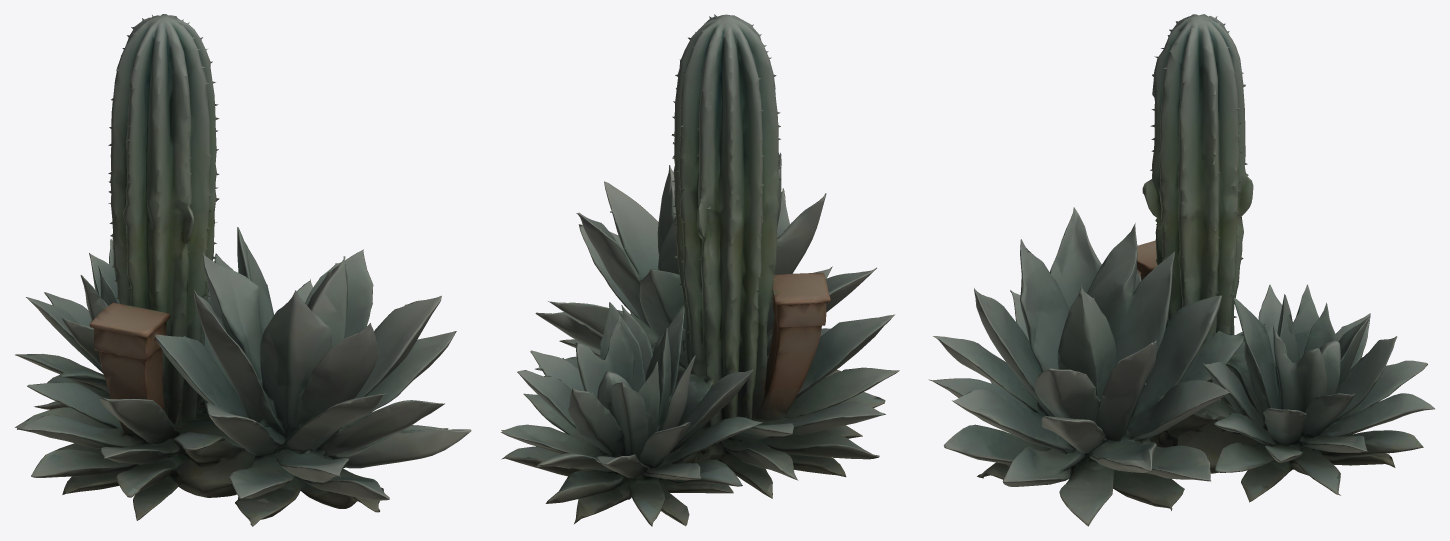
File: cactus-agave-cluster.glb
3 views of the same model, side by side, from view 1: azimuth 30°, elevation 25°; view 2: azimuth 150°, elevation 25°; view 3: azimuth 270°, elevation 25° (orthographic). The views are drawn at different scales.
Visible parts, largest first — view 1: tripo_node_0f2899c9-9a63-4ca4-91ab-f780e0bf7a1e; view 2: tripo_node_0f2899c9-9a63-4ca4-91ab-f780e0bf7a1e; view 3: tripo_node_0f2899c9-9a63-4ca4-91ab-f780e0bf7a1e.
Boxes of the visible parts, x1,y1,x2,y2 form: tripo_node_0f2899c9-9a63-4ca4-91ab-f780e0bf7a1e: (15,14,471,526); tripo_node_0f2899c9-9a63-4ca4-91ab-f780e0bf7a1e: (501,14,899,526); tripo_node_0f2899c9-9a63-4ca4-91ab-f780e0bf7a1e: (928,14,1434,526).
Size of the model in its own units: 0.7062 by 0.8 by 0.8559.
Materials: 1 (1 with a texture image).
